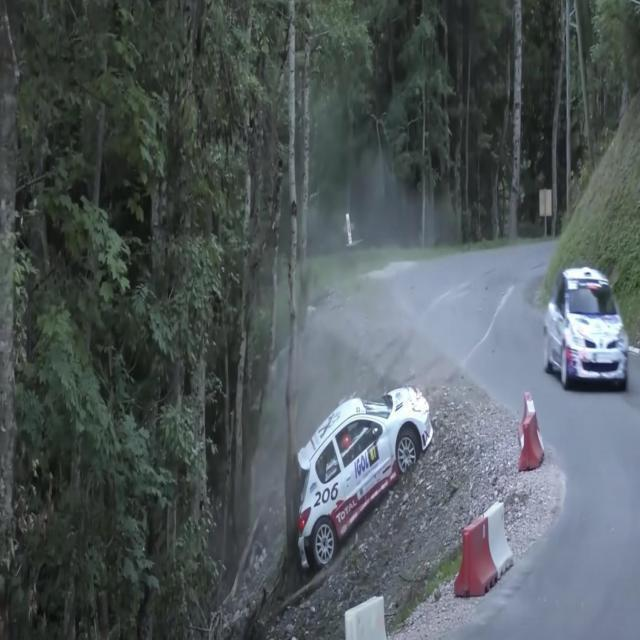accident: (288, 364, 438, 577)
